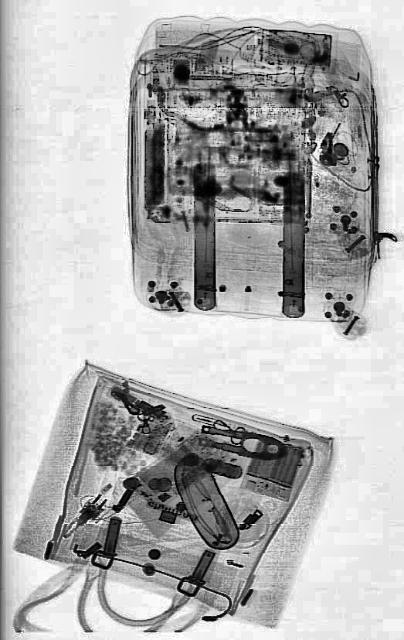Pliers: (196, 421, 288, 464)
